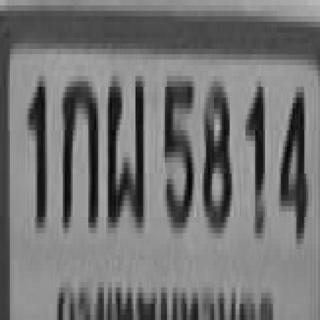A01: (61, 76, 96, 222)
A28: (106, 73, 143, 225)
N01: (243, 81, 263, 233), (25, 76, 45, 222)
N04: (279, 84, 306, 236)
N05: (163, 76, 192, 222)
N08: (202, 76, 230, 228)
